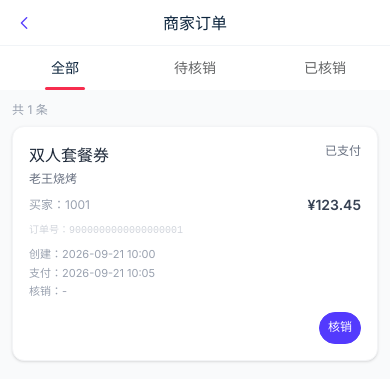
Test: Merchant/OrderList.vue — 错误处理与防重复 › 核销返回 40004 时提示并重新拉取列表
Click the button with test id "redeem-button".
click(340, 328)  # box [319,312,361,344]
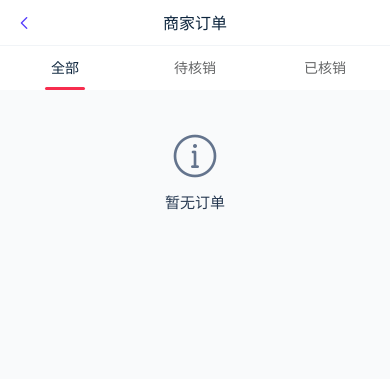
Check: the text "暂无订单" is shown, box [165,193,225,212]
